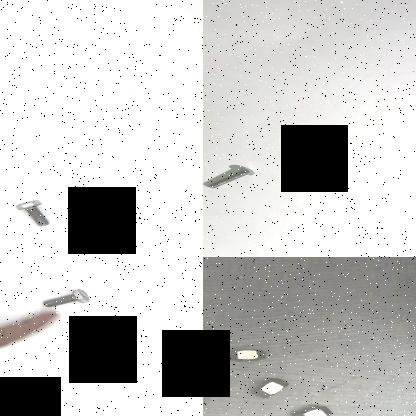Bolts: (203, 164, 258, 190), (12, 196, 52, 230), (38, 286, 94, 308)
NUTS: (238, 375, 294, 399), (283, 400, 348, 416), (226, 344, 272, 364)
